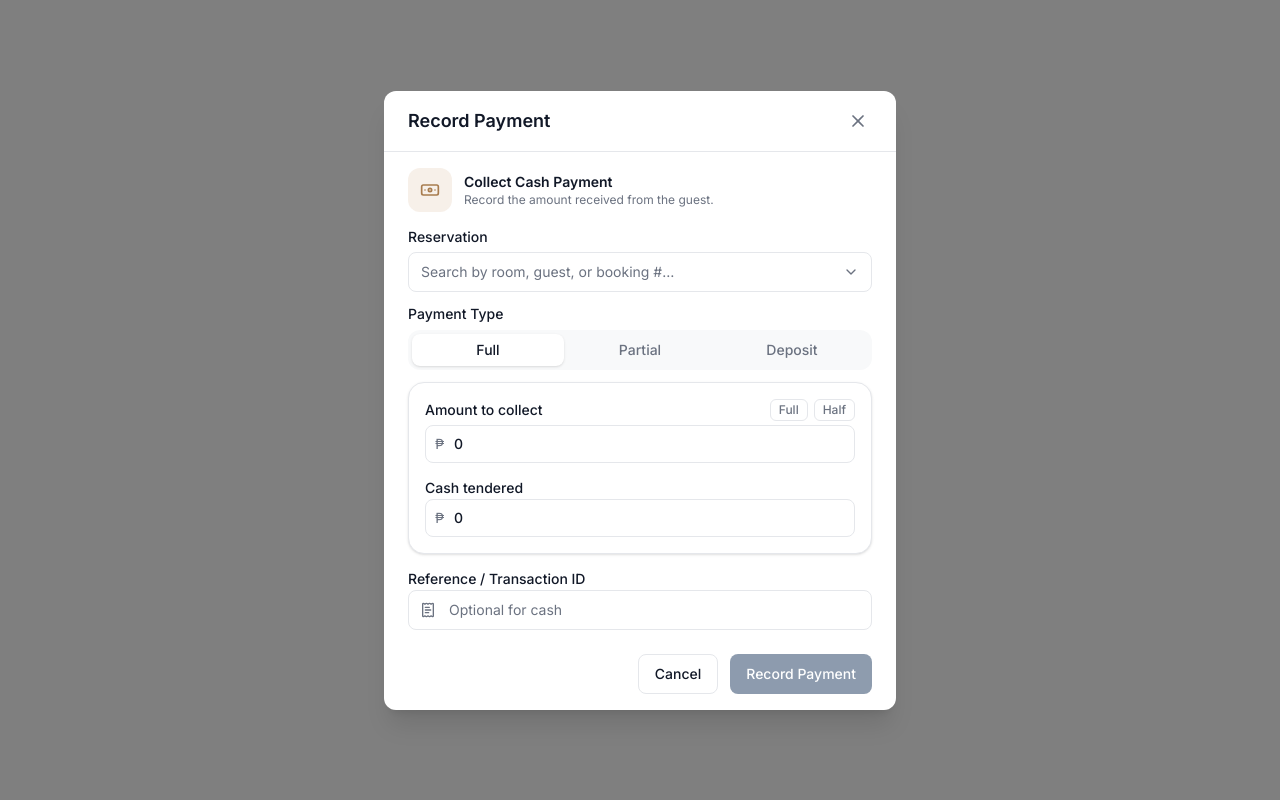
Test: PaymentModal › shows an empty state when no reservation matches the search
Click the button "Search by room, guest, or booking #…" at (640, 272), box top-left (408, 252), bottom-right (872, 292)
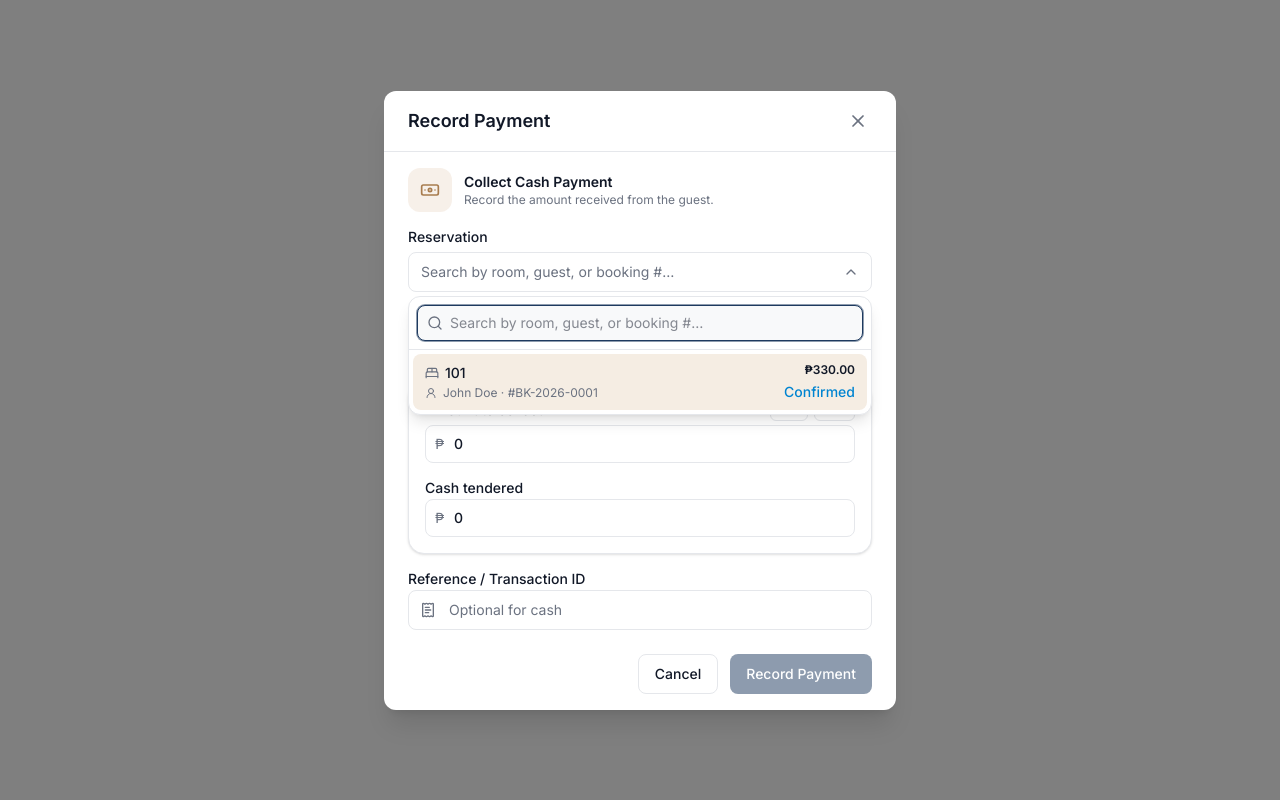
Type "zzzz" into the field named "Search reservations" at (640, 322), box top-left (417, 304), bottom-right (863, 340)
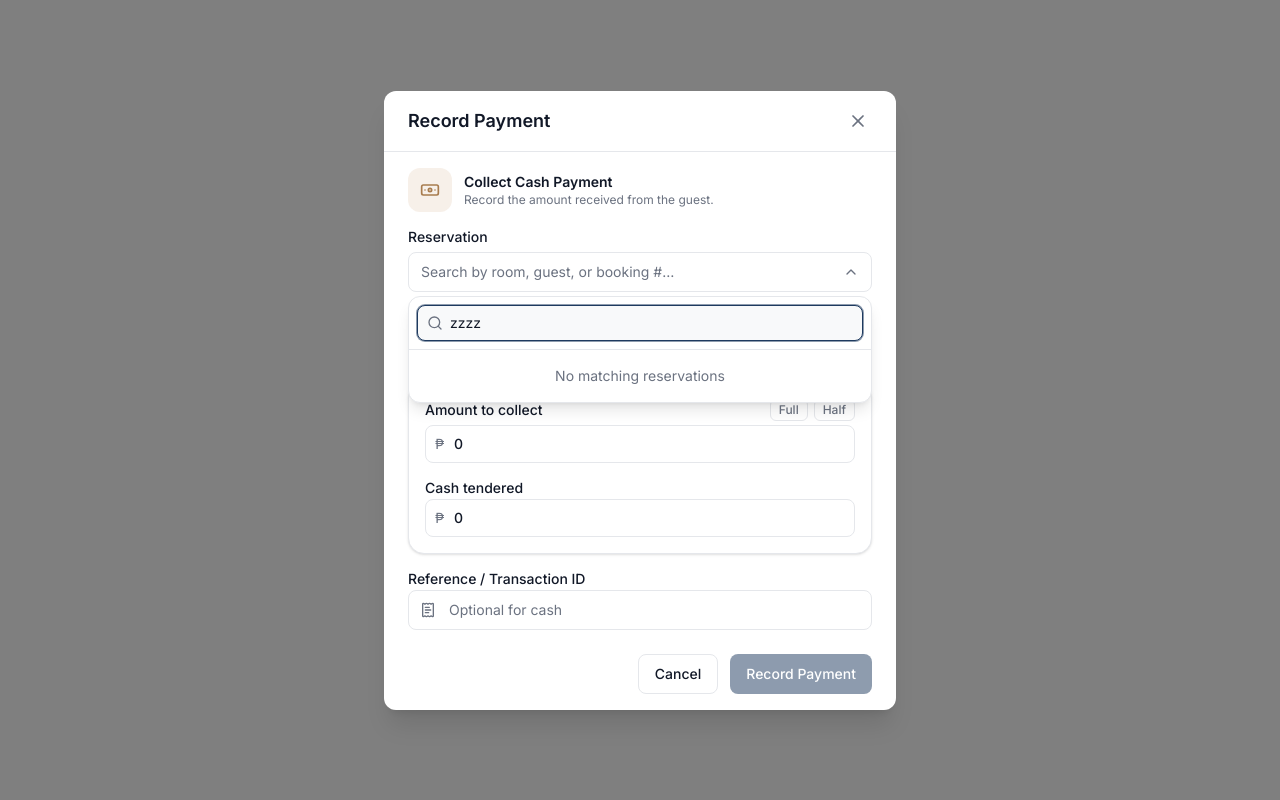
Expected: the list item "No matching reservations" is shown, top-left (555, 366), bottom-right (725, 384)
